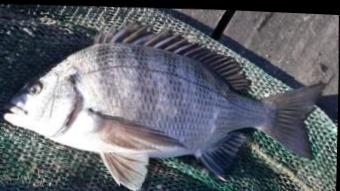fish: (3, 19, 329, 191)
